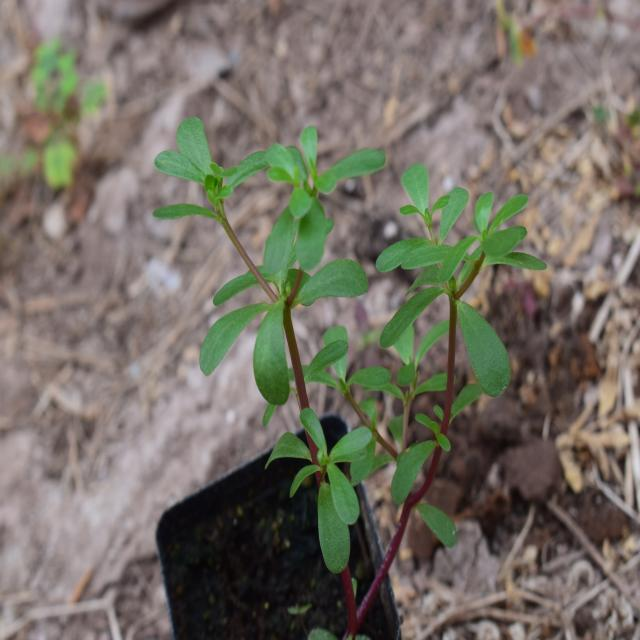purslane: (130, 89, 524, 591)
